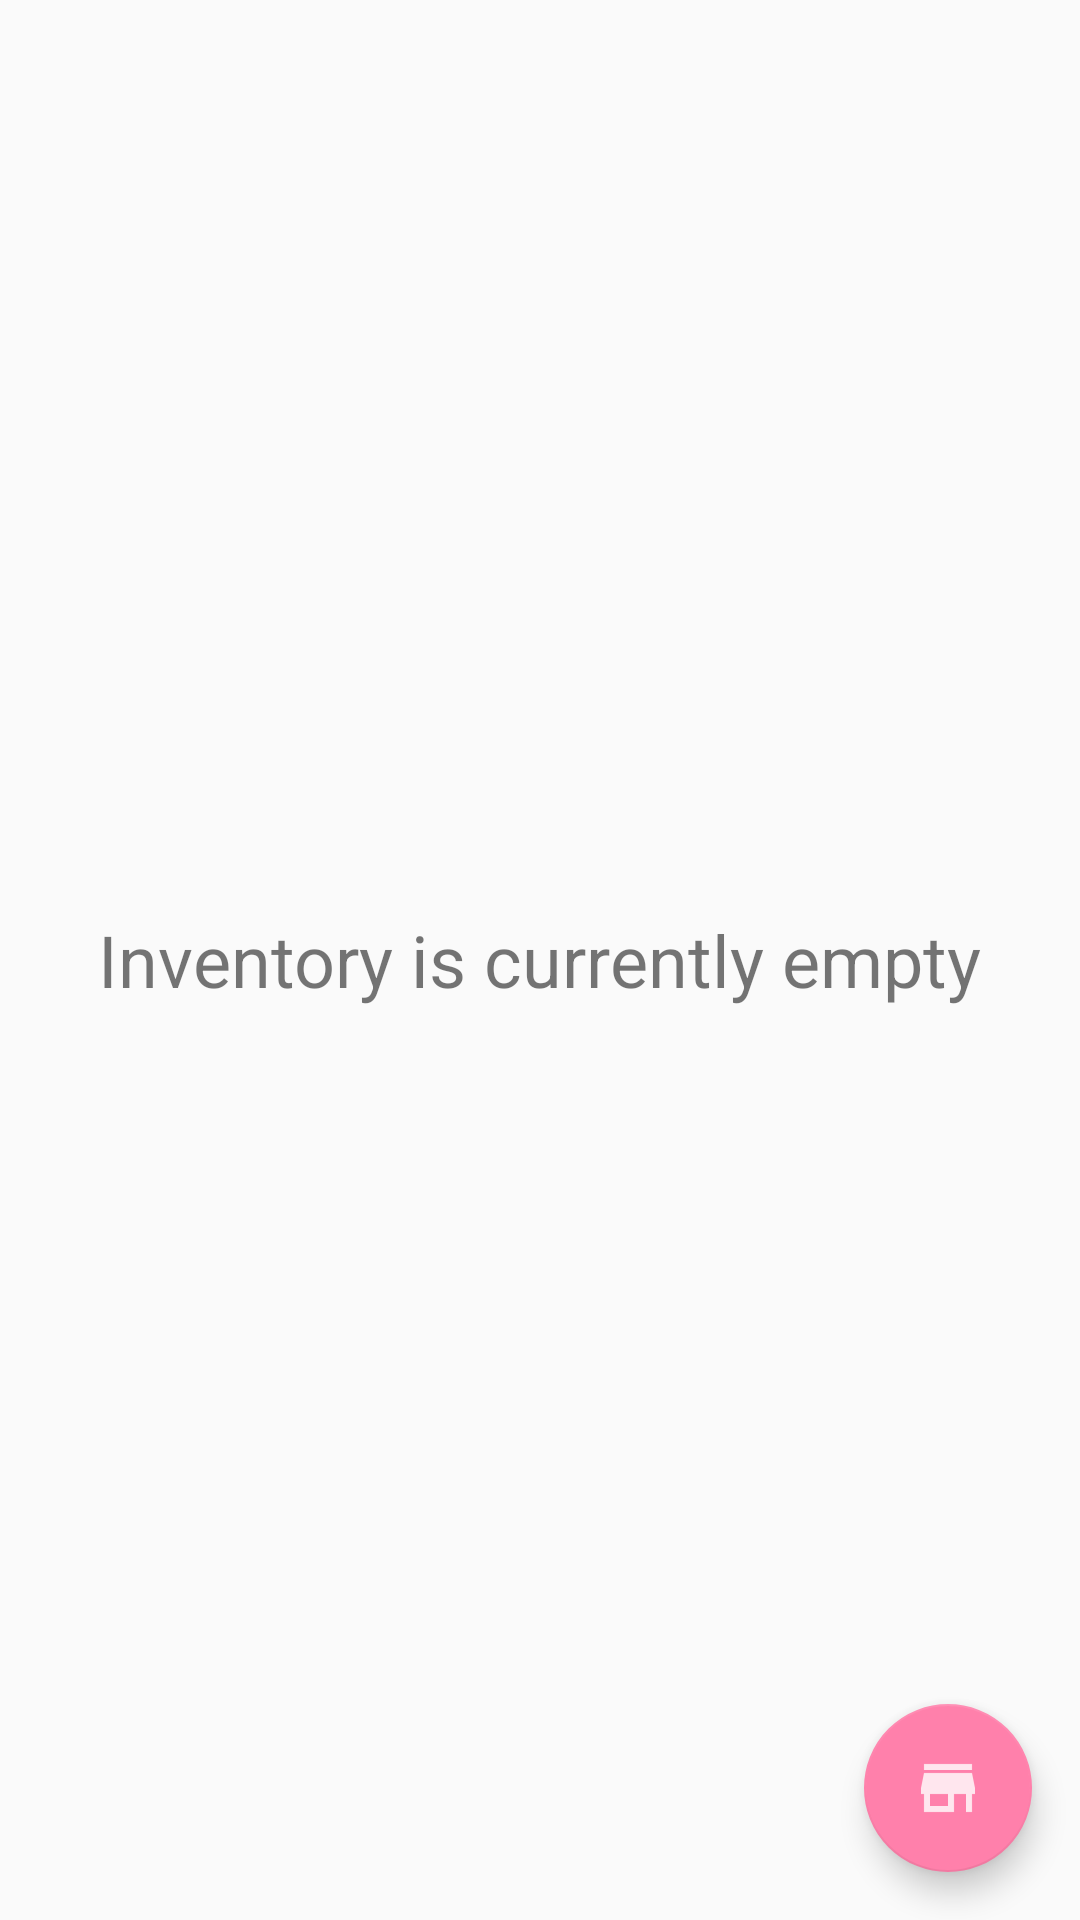

Icon click points for this 1080w x 1920h phone screenshot, format (x,y):
store: (948,1788)
